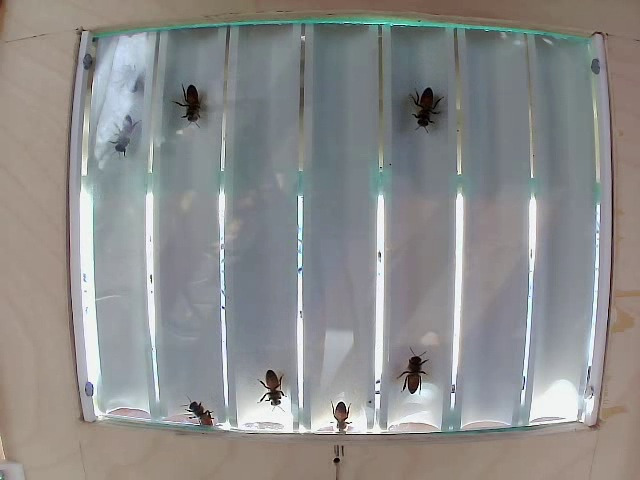bee: (403, 76, 450, 142), (105, 120, 144, 157), (176, 83, 206, 131), (249, 365, 287, 402), (111, 60, 147, 89), (397, 354, 421, 395), (337, 404, 360, 433)
